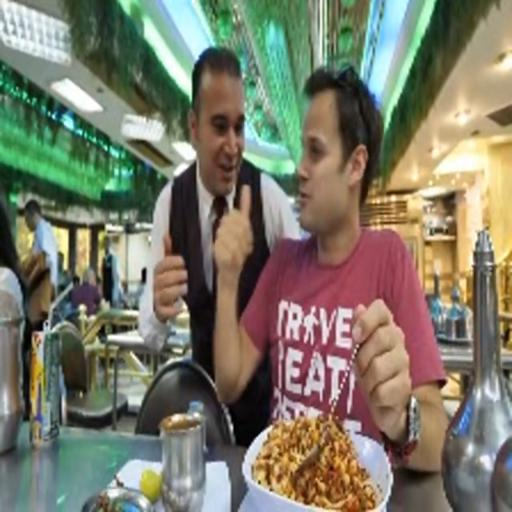nao-violencia: (120, 39, 461, 474)
